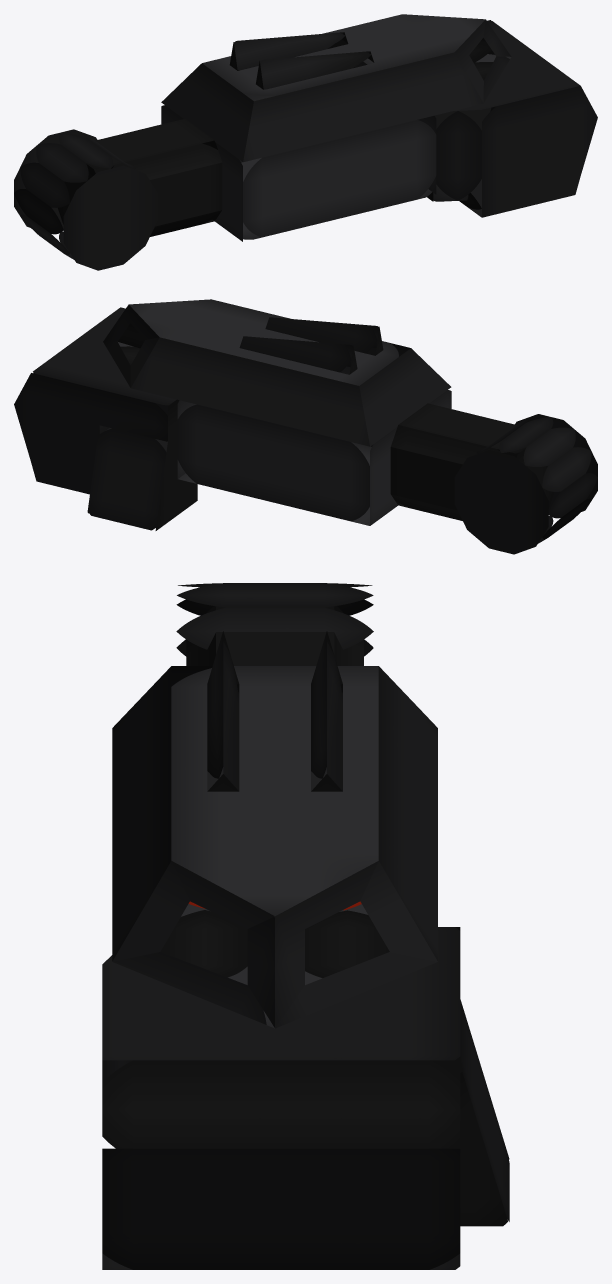
The model's file is Blackwing Right Arm.obj.
3 views of the same model, one above another, from view 1: azimuth 30°, elevation 25°; view 2: azimuth 150°, elevation 25°; view 3: azimuth 270°, elevation 25° (orthographic). The views are drawn at different scales.
Visible parts, largest first — view 1: Forearm, cuboid, cylinder, Arm; view 2: Forearm, cuboid, cylinder, Arm; view 3: cuboid, Forearm, cylinder, Arm.
Boxes of the visible parts, x1,y1,x2,y2 form: Forearm: (161,14,511,241); cuboid: (354,20,597,217); cylinder: (14,129,158,270); Arm: (58,118,222,236); Forearm: (103,299,451,525); cuboid: (14,307,197,530); cylinder: (454,414,597,554); Arm: (390,403,554,520); cuboid: (102,927,509,1269); Forearm: (112,631,437,1028); cylinder: (176,583,373,656); Arm: (186,606,363,665).
Size of the model in its own units: 0.75 by 0.2656 by 0.2578.
1 material, 1 textured.
